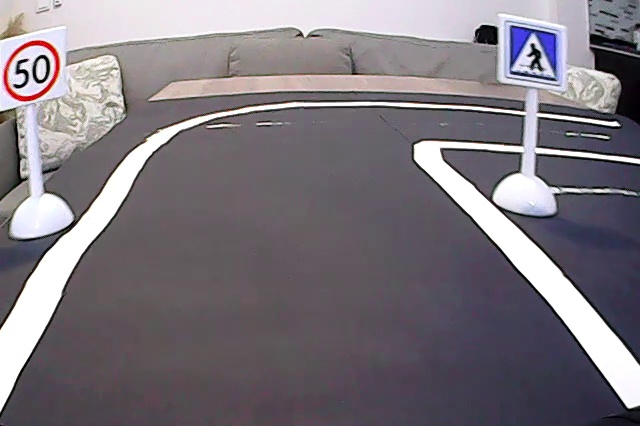pedestrian crossing: (501, 18, 565, 87)
speed limit 50: (1, 40, 65, 104)
